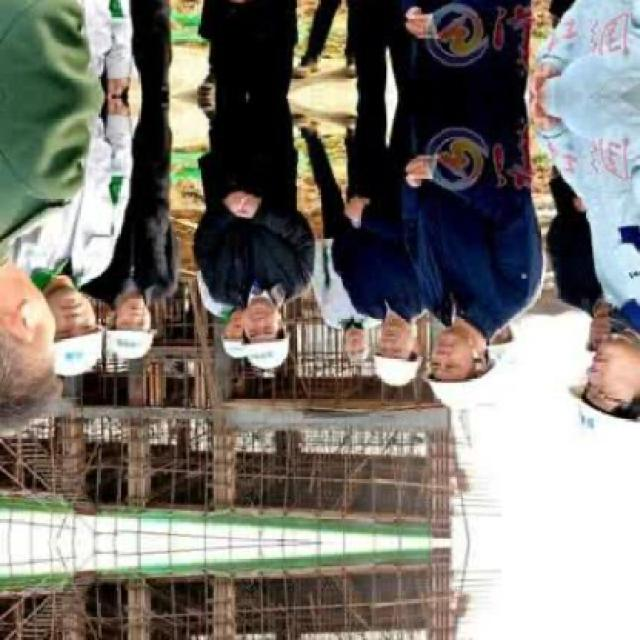con casco: (525, 314, 640, 471), (412, 329, 523, 443), (66, 304, 178, 390), (233, 276, 290, 376), (366, 324, 434, 404)
sin casco: (0, 235, 75, 441)
